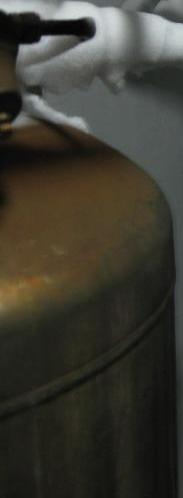cylinder: (0, 1, 183, 498)
